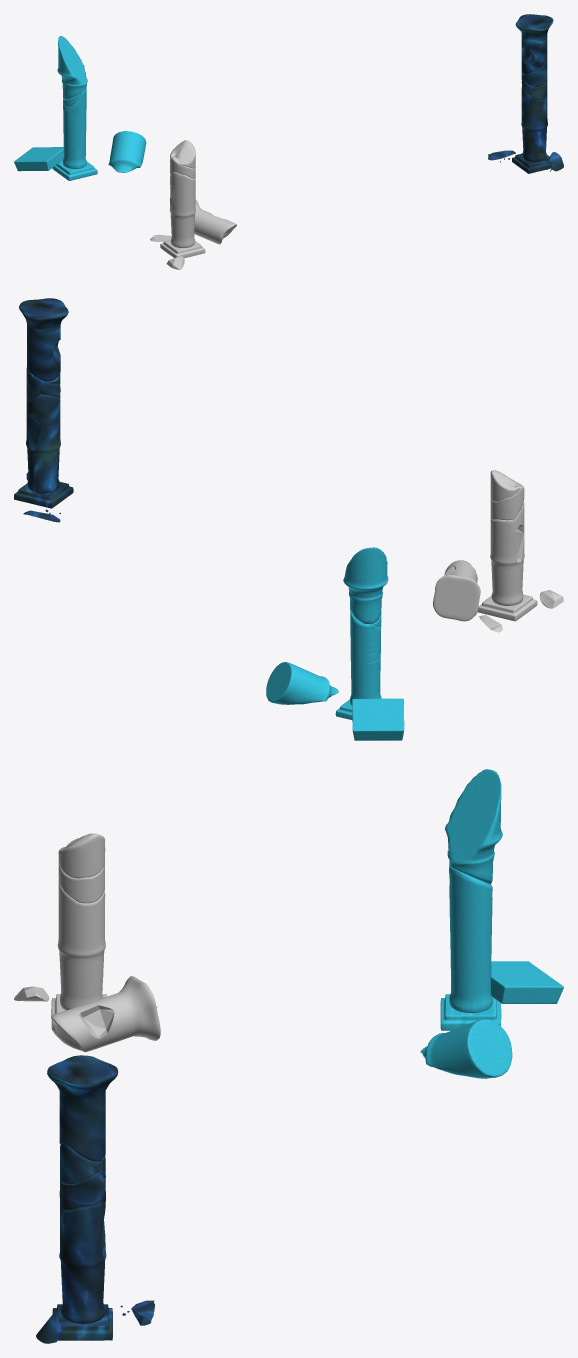
The model's file is desert_columns.fbx.
The picture shows the model from 3 angles, top to bottom: view 1: azimuth 30°, elevation 25°; view 2: azimuth 150°, elevation 25°; view 3: azimuth 270°, elevation 25°; orthographic projection. The views are drawn at different scales.
Visible parts, largest first — view 1: columna junta, columna partida, columna rota, top roto.001, columna suelo, slab; view 2: columna junta, columna partida, columna rota, columna suelo, slab, top roto.001, piedras; view 3: columna junta, columna partida, columna rota, columna suelo, top roto.001, slab.
Part boxes in pixels (x1=…): columna junta: x1=488, y1=14, x2=563, y2=173; columna partida: x1=52, y1=36, x2=97, y2=180; columna rota: x1=160, y1=140, x2=205, y2=258; top roto.001: x1=108, y1=131, x2=146, y2=172; columna suelo: x1=194, y1=199, x2=236, y2=244; slab: x1=14, y1=147, x2=63, y2=171; columna junta: x1=14, y1=298, x2=73, y2=522; columna partida: x1=335, y1=547, x2=388, y2=719; columna rota: x1=477, y1=470, x2=537, y2=621; columna suelo: x1=433, y1=560, x2=480, y2=621; slab: x1=352, y1=698, x2=404, y2=740; top roto.001: x1=266, y1=662, x2=338, y2=704; piedras: x1=478, y1=590, x2=563, y2=632; columna junta: x1=36, y1=1055, x2=154, y2=1343; columna partida: x1=440, y1=769, x2=502, y2=1030; columna rota: x1=51, y1=833, x2=107, y2=1030; columna suelo: x1=51, y1=976, x2=160, y2=1052; top roto.001: x1=420, y1=1019, x2=512, y2=1078; slab: x1=491, y1=961, x2=563, y2=1003.
Bounding box in the file's own units: 2540 × 836 × 1604.
